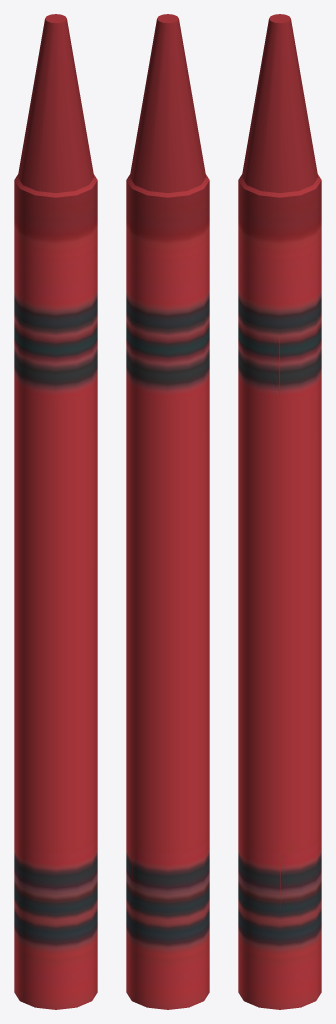
Rendered from toy_crayon_red.glb.
The picture shows the model from 3 angles, left to right: view 1: azimuth 90°, elevation 25°; view 2: azimuth 210°, elevation 25°; view 3: azimuth 270°, elevation 25°; orthographic projection.
Parts seen in each view (by area): view 1: toy_crayon_red; view 2: toy_crayon_red; view 3: toy_crayon_red.
Boxes of the visible parts, <box> form: toy_crayon_red: <box>14,14,97,1009</box>; toy_crayon_red: <box>126,14,209,1009</box>; toy_crayon_red: <box>238,14,321,1009</box>.
Bounding box in the file's own units: 1.24 × 16 × 1.24.
1 material, 1 textured.
